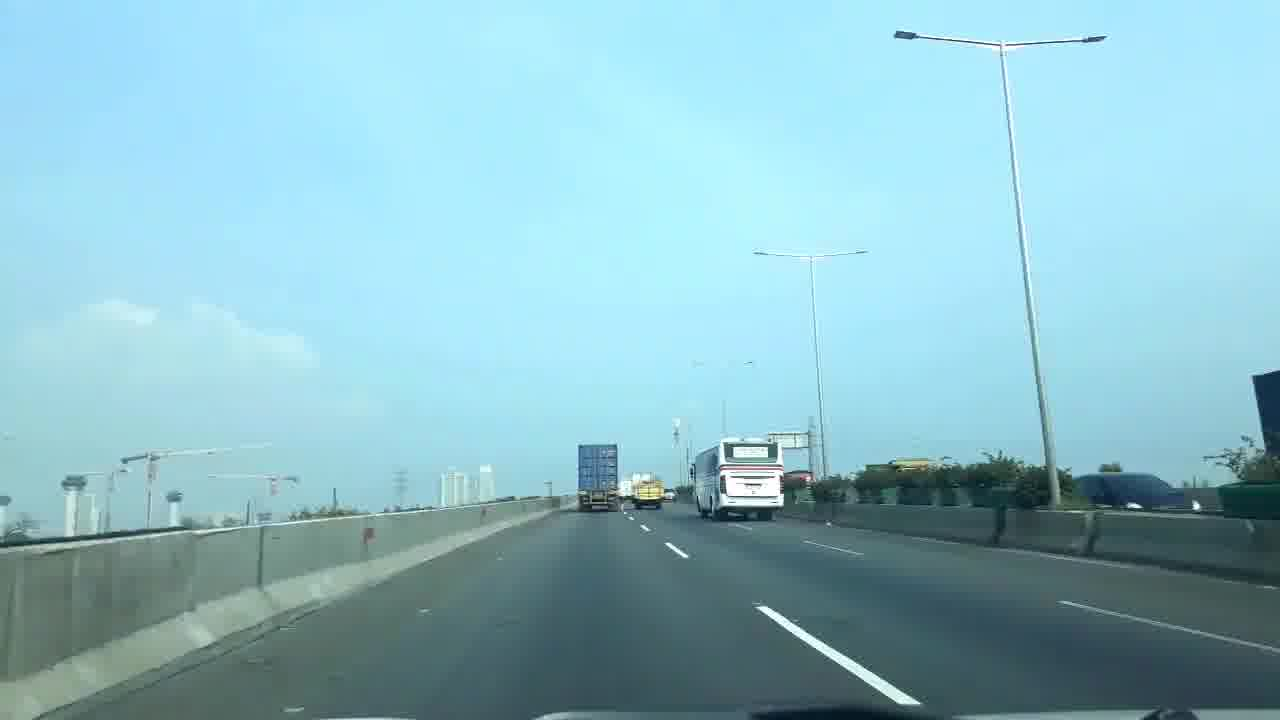plate_positive: (747, 484, 760, 488)
